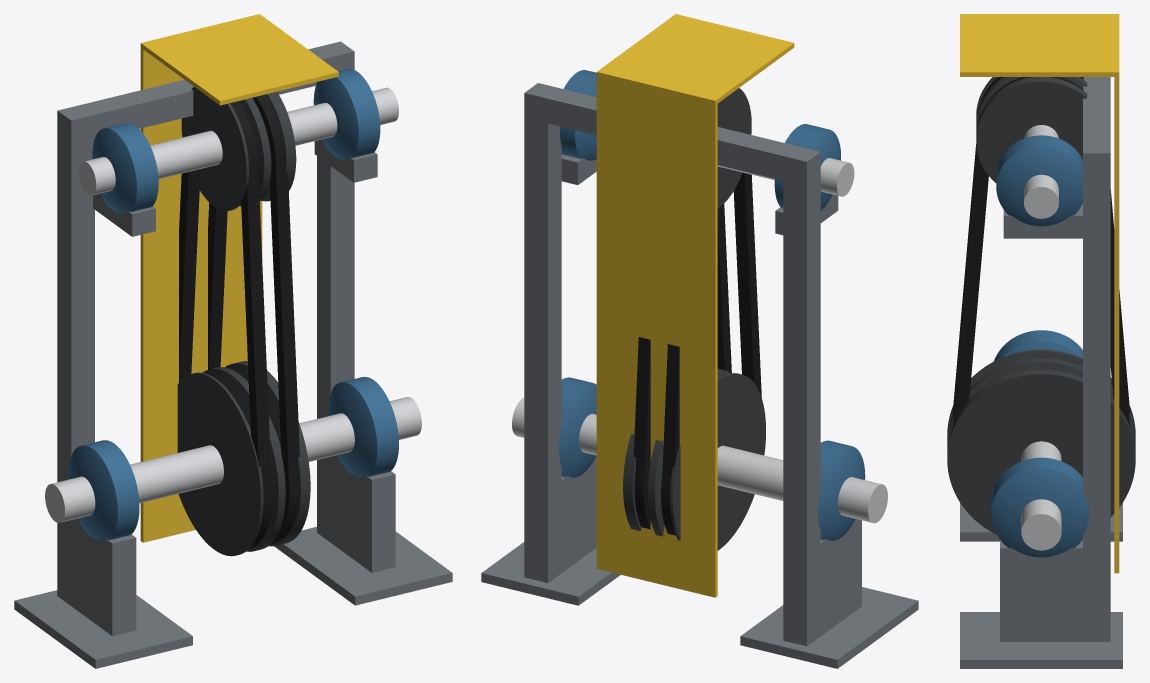
The picture shows the model from 3 angles, left to right: view 1: azimuth 30°, elevation 25°; view 2: azimuth 150°, elevation 25°; view 3: azimuth 270°, elevation 25°; orthographic projection.
Visible parts, largest first — view 1: TR_FRAME, TR_GUARD, TR_BELTS, TR_BEARINGS, TR_DRIVE_PULLEY, TR_SHAFTS, TR_DRIVEN_PULLEY; view 2: TR_GUARD, TR_FRAME, TR_BELTS, TR_BEARINGS, TR_DRIVE_PULLEY, TR_SHAFTS, TR_DRIVEN_PULLEY; view 3: TR_FRAME, TR_DRIVE_PULLEY, TR_BEARINGS, TR_GUARD, TR_DRIVEN_PULLEY, TR_BELTS, TR_SHAFTS.
Boxes of the visible parts, <box> form: TR_FRAME: <box>14,41,452,668</box>; TR_GUARD: <box>140,14,338,542</box>; TR_BELTS: <box>179,94,299,549</box>; TR_BEARINGS: <box>68,68,398,540</box>; TR_DRIVE_PULLEY: <box>177,361,310,556</box>; TR_SHAFTS: <box>45,87,421,522</box>; TR_DRIVEN_PULLEY: <box>181,87,296,211</box>; TR_GUARD: <box>596,14,794,597</box>; TR_FRAME: <box>481,83,918,668</box>; TR_BELTS: <box>633,172,761,535</box>; TR_BEARINGS: <box>558,70,865,540</box>; TR_DRIVE_PULLEY: <box>623,368,765,550</box>; TR_SHAFTS: <box>512,158,887,523</box>; TR_DRIVEN_PULLEY: <box>717,88,751,208</box>; TR_FRAME: <box>960,77,1122,668</box>; TR_DRIVE_PULLEY: <box>947,349,1135,534</box>; TR_BEARINGS: <box>991,135,1088,557</box>; TR_GUARD: <box>960,14,1119,573</box>; TR_DRIVEN_PULLEY: <box>976,77,1087,182</box>; TR_BELTS: <box>952,77,1130,425</box>; TR_SHAFTS: <box>1021,125,1061,550</box>.
Bounding box in the file's own units: 0.66 × 0.95 × 0.3.
